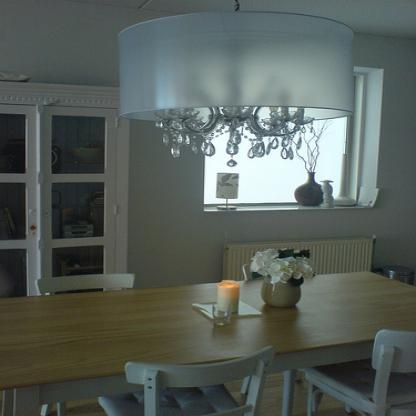chair: (99, 345, 275, 415), (304, 328, 415, 415), (36, 272, 138, 296)
diningtable: (0, 270, 415, 416)
